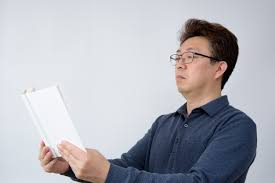asian_male: (165, 40, 208, 95)
